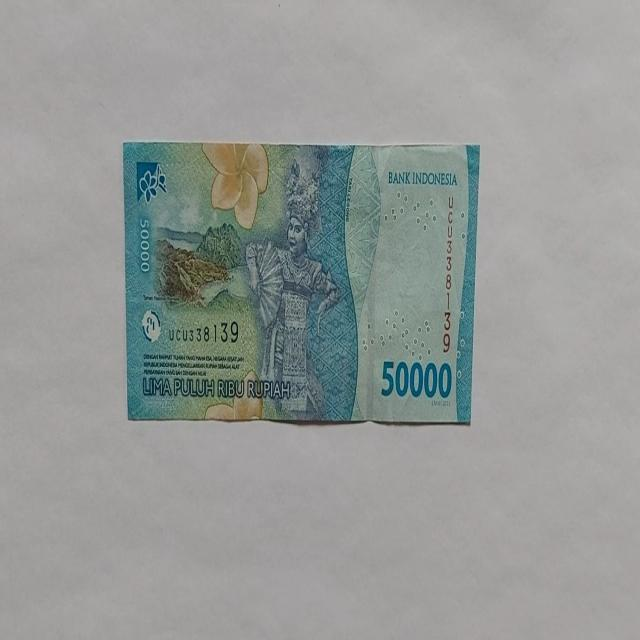lima puluh ribu rupiah: (123, 140, 480, 426)
